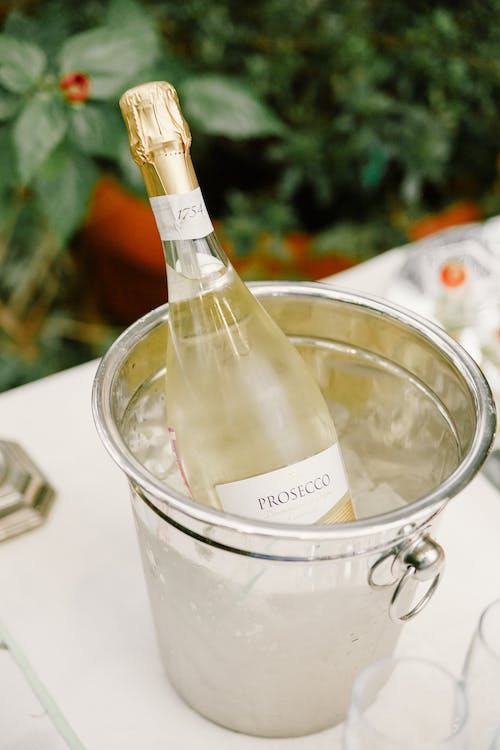alcohol: (117, 77, 357, 525)
